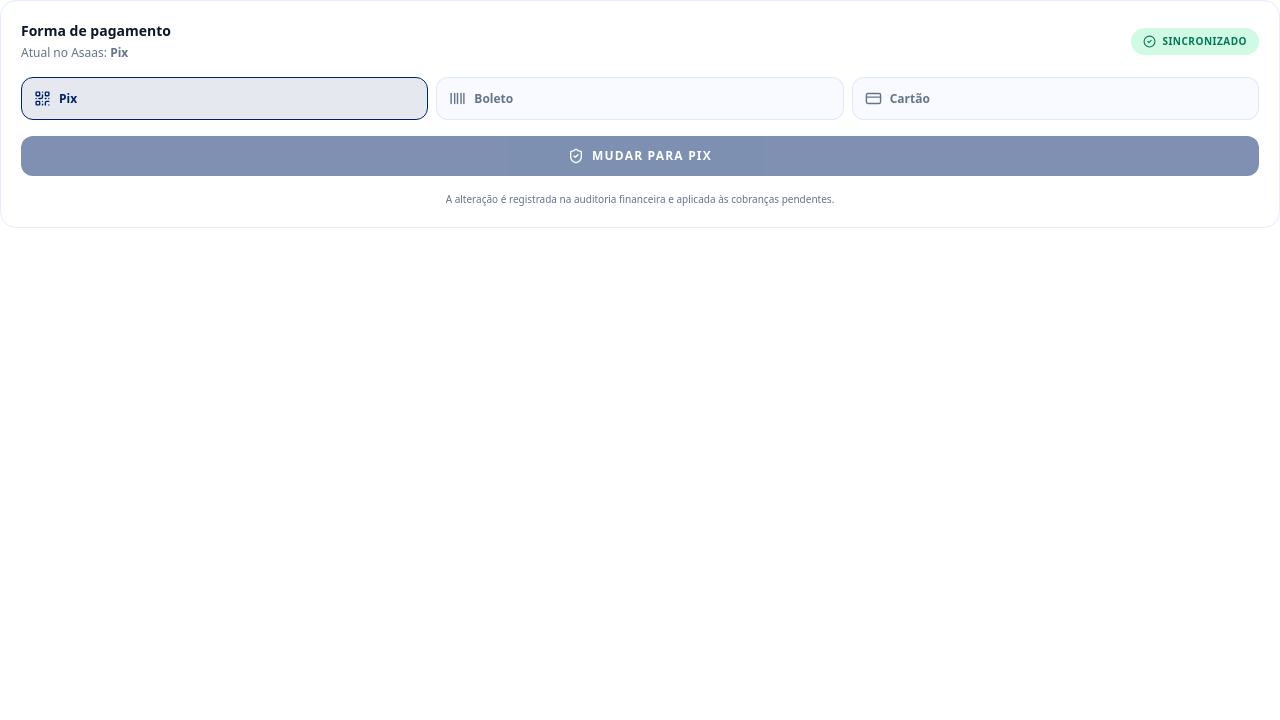
Test case: <BillingMethodManager /> › confirma e cobra a fatura vencida, preservando a recorrência
Expected: the text "Atual no Asaas: Pix" is shown, [21, 44, 128, 61]
Click the button "Cartão". click: x=910, y=98
box: [852, 77, 1259, 120]
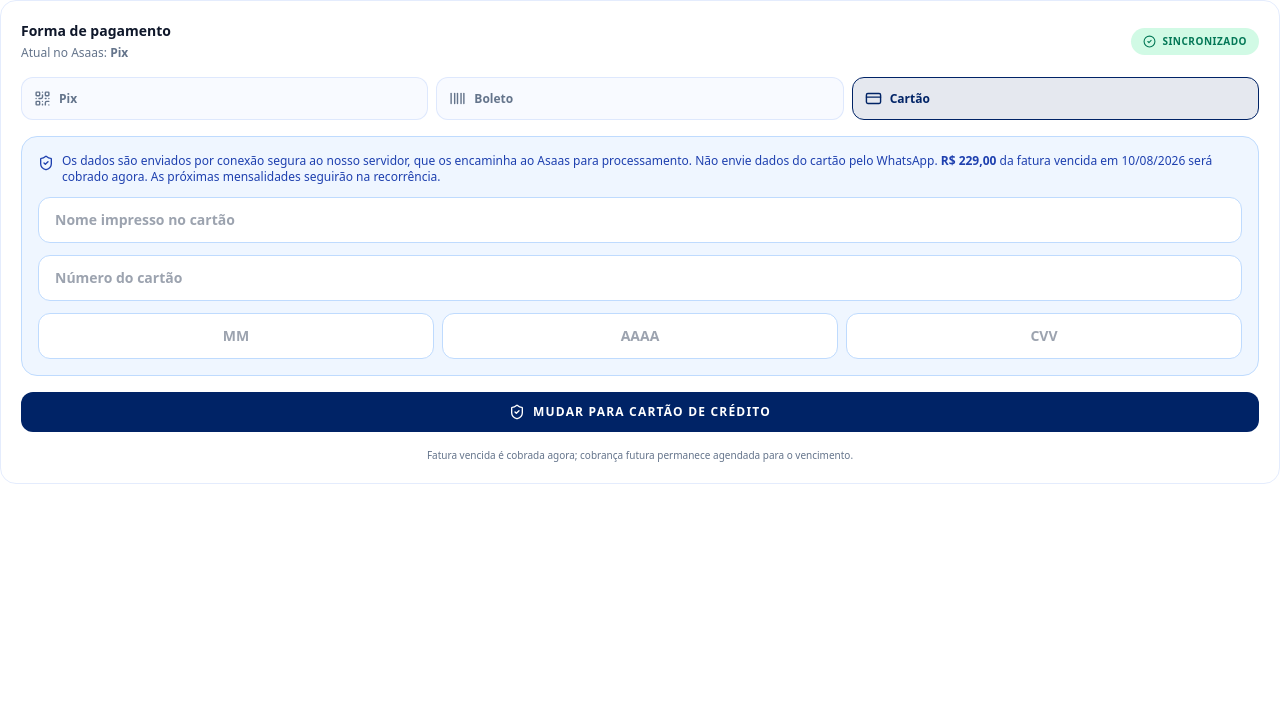
Expected: the text "fatura vencida em 10/08/2026 será cobrado agora" is shown, [62, 153, 1242, 185]
Type "Aluno Teste" into the field with placeholder "Nome impresso no cartão". click: x=640, y=220
box: [38, 197, 1242, 243]
Type "4111111111111111" into the field with placeholder "Número do cartão". click: x=640, y=278
box: [38, 255, 1242, 301]
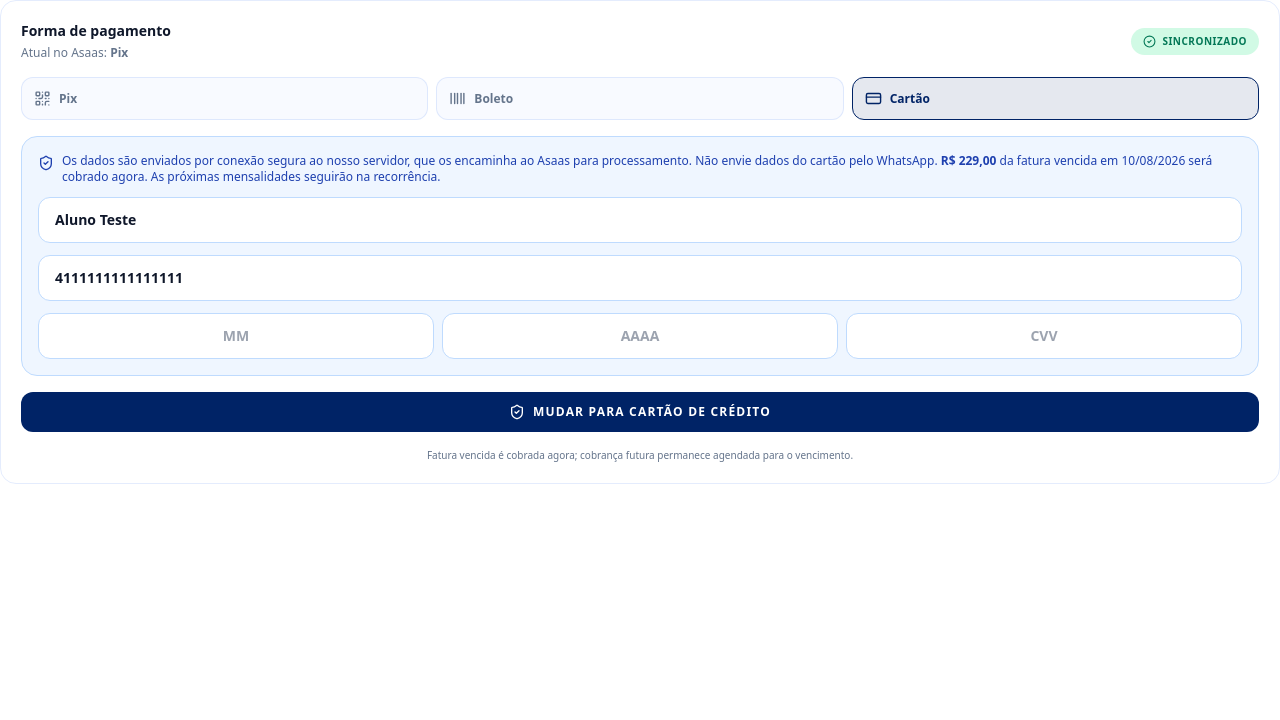
Type "12" into the field with placeholder "MM". click: x=236, y=336
box: [38, 313, 434, 359]
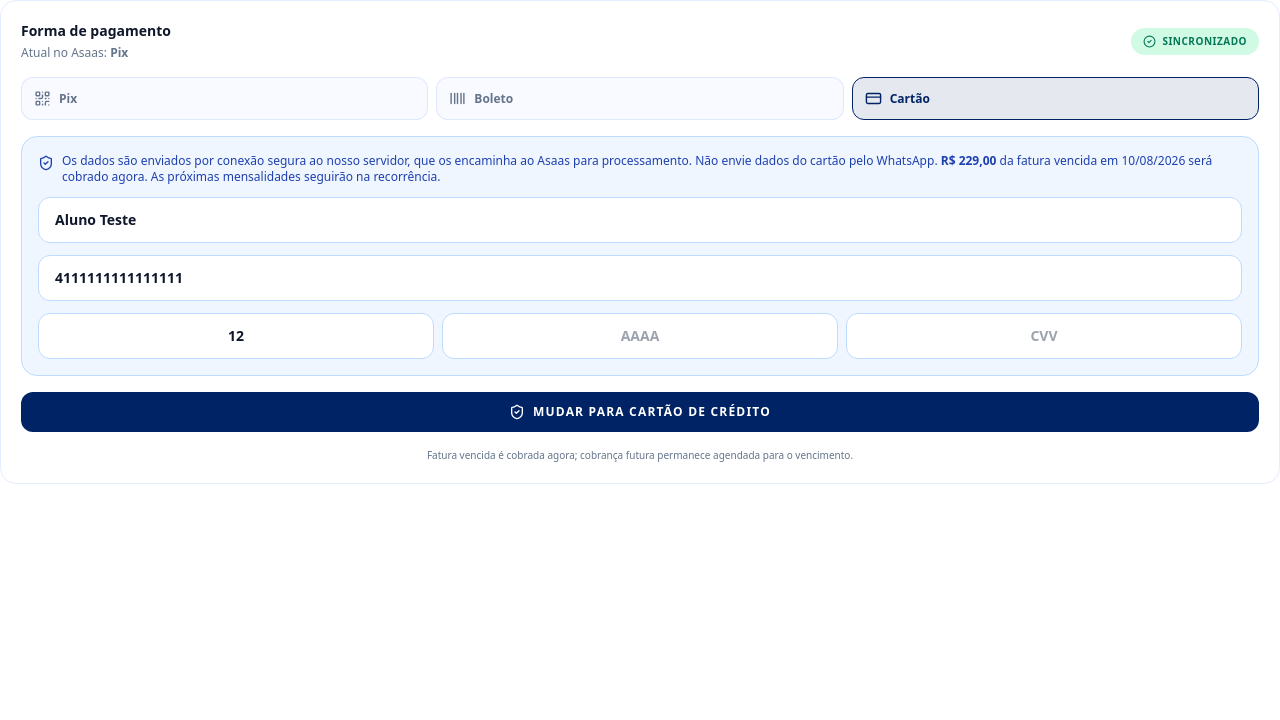
Type "2030" into the field with placeholder "AAAA". click: x=640, y=336
box: [442, 313, 838, 359]
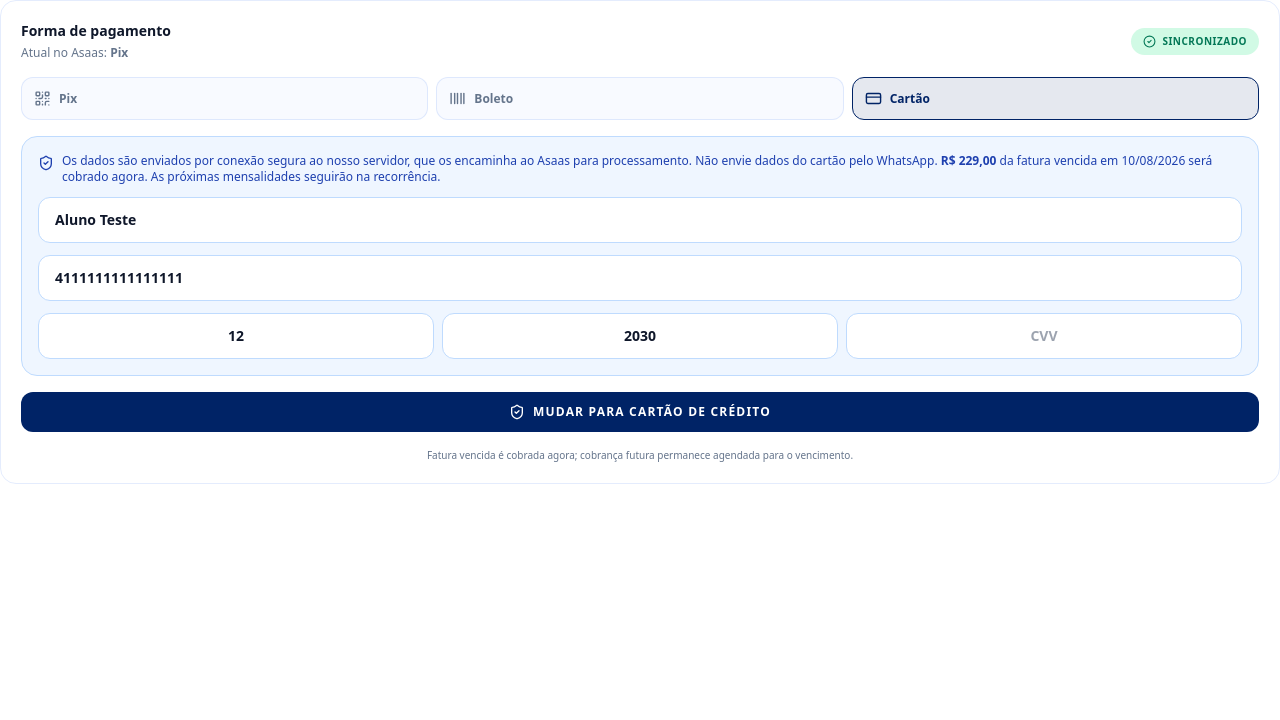
Type "123" into the password field with placeholder "CVV". click: x=1044, y=336
box: [846, 313, 1242, 359]
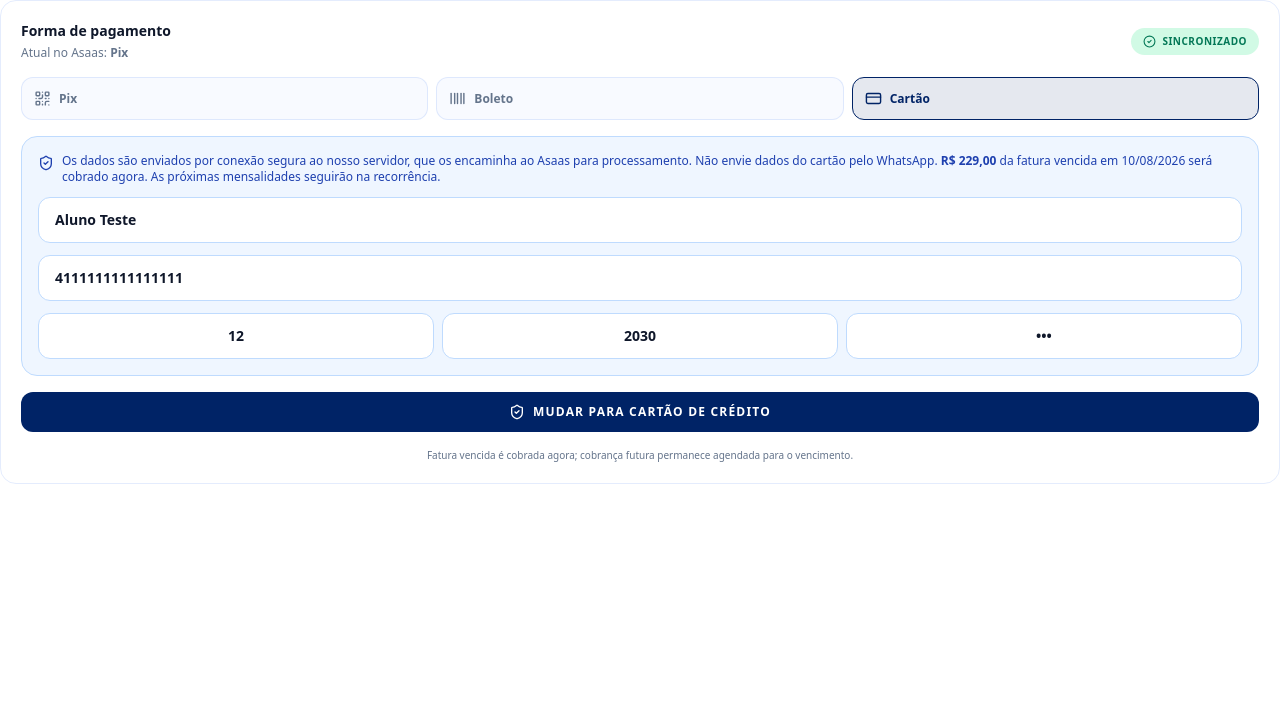
Click the button "Mudar para Cartão de crédito". click: x=640, y=412
box: [21, 392, 1259, 432]
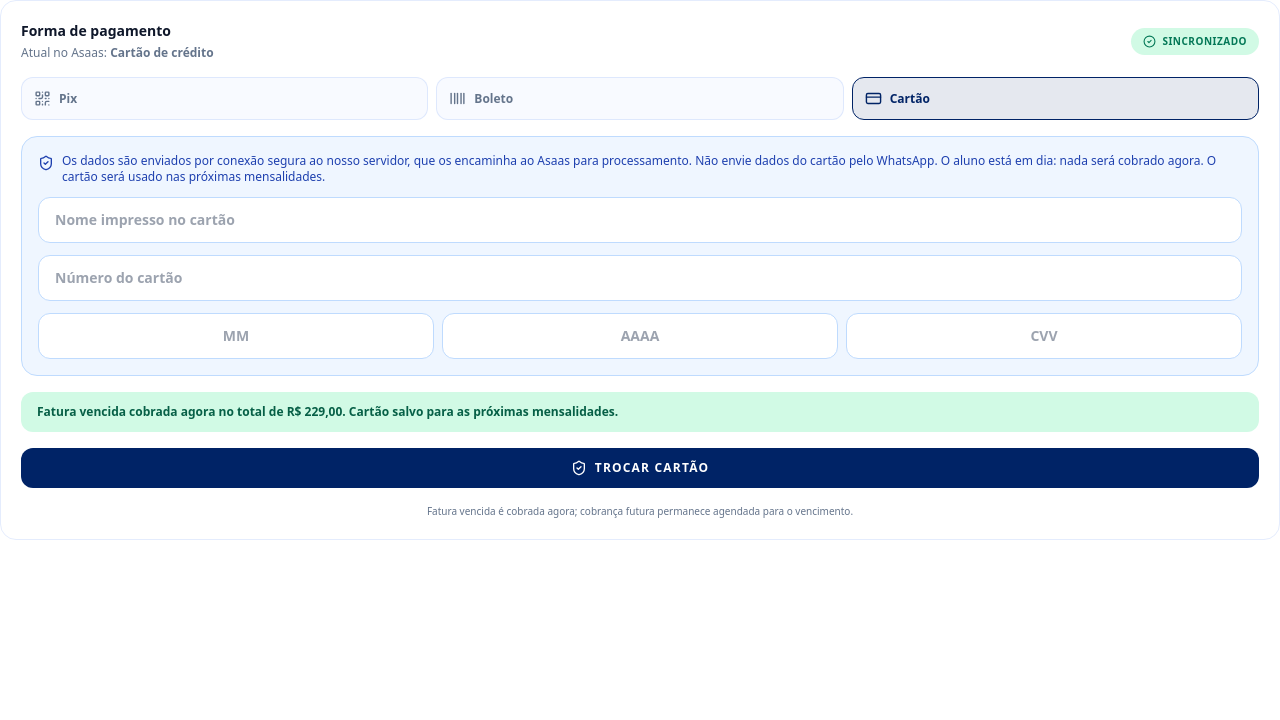
Expected: the text "Fatura vencida cobrada agora" is shown, [37, 403, 618, 420]
